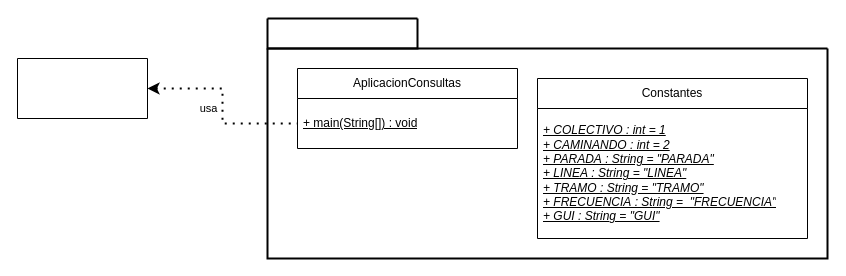
Image size: 846x276. Some labels were removed from this diagram. The shapes that lost their labels are listed below. From the top down, each one's centre as x and y in pixels, then its label:
At point (342, 33): "app".
At point (82, 88): "<<from controlador>> Coordinador".
